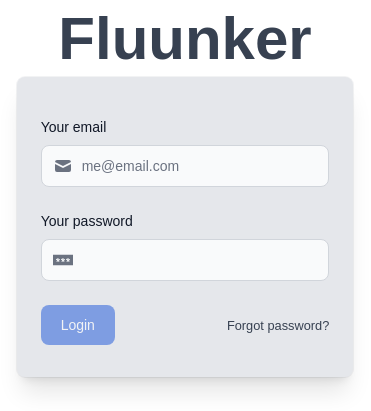
Scenario: Login › Submit button › when entering a valid email and a password › is enabled
The width and height of the screenshot is (371, 411).
Type "test@test.com" into the field labelled "Your email" at (185, 166), box x1=41 y1=145 x2=329 y2=187
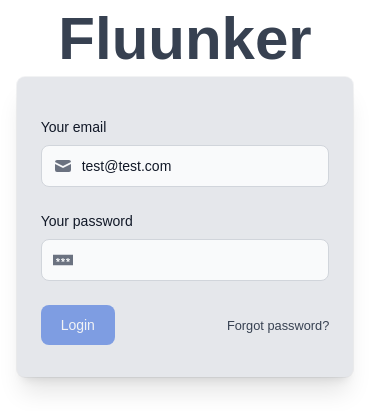
Type "password" into the password field labelled "Your password" at (185, 260), box x1=41 y1=239 x2=329 y2=281
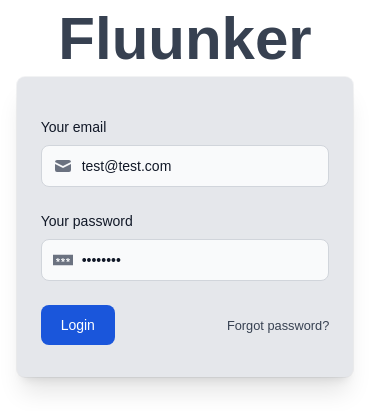
Check: the button "Login" is enabled, box x1=41 y1=305 x2=115 y2=345
